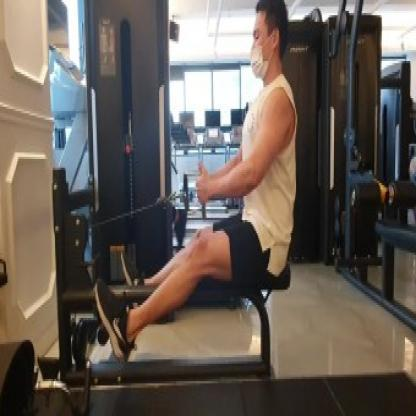Seated Cable Rows: (0, 0, 317, 416)
